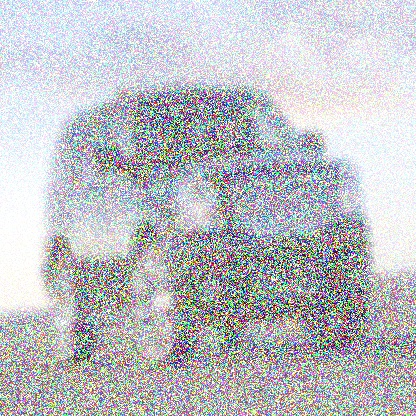Vehicle: (38, 74, 374, 374)
